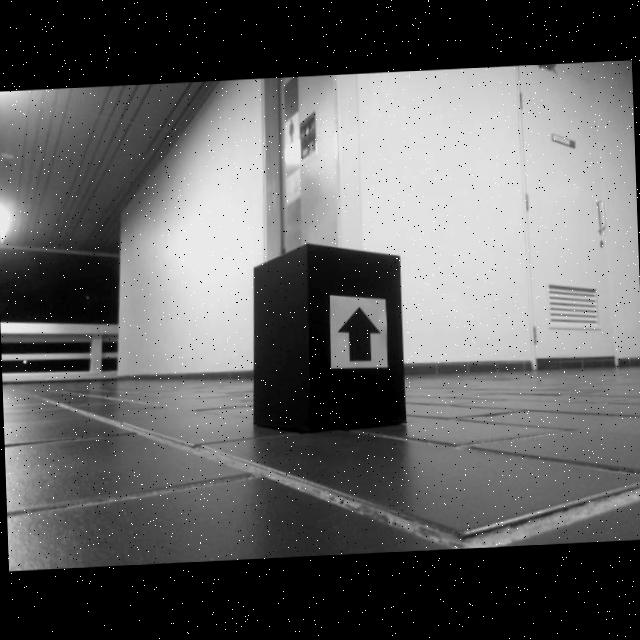UP: (336, 306, 382, 363)
